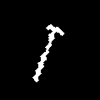half_double_crochet: (33, 25, 63, 81)
